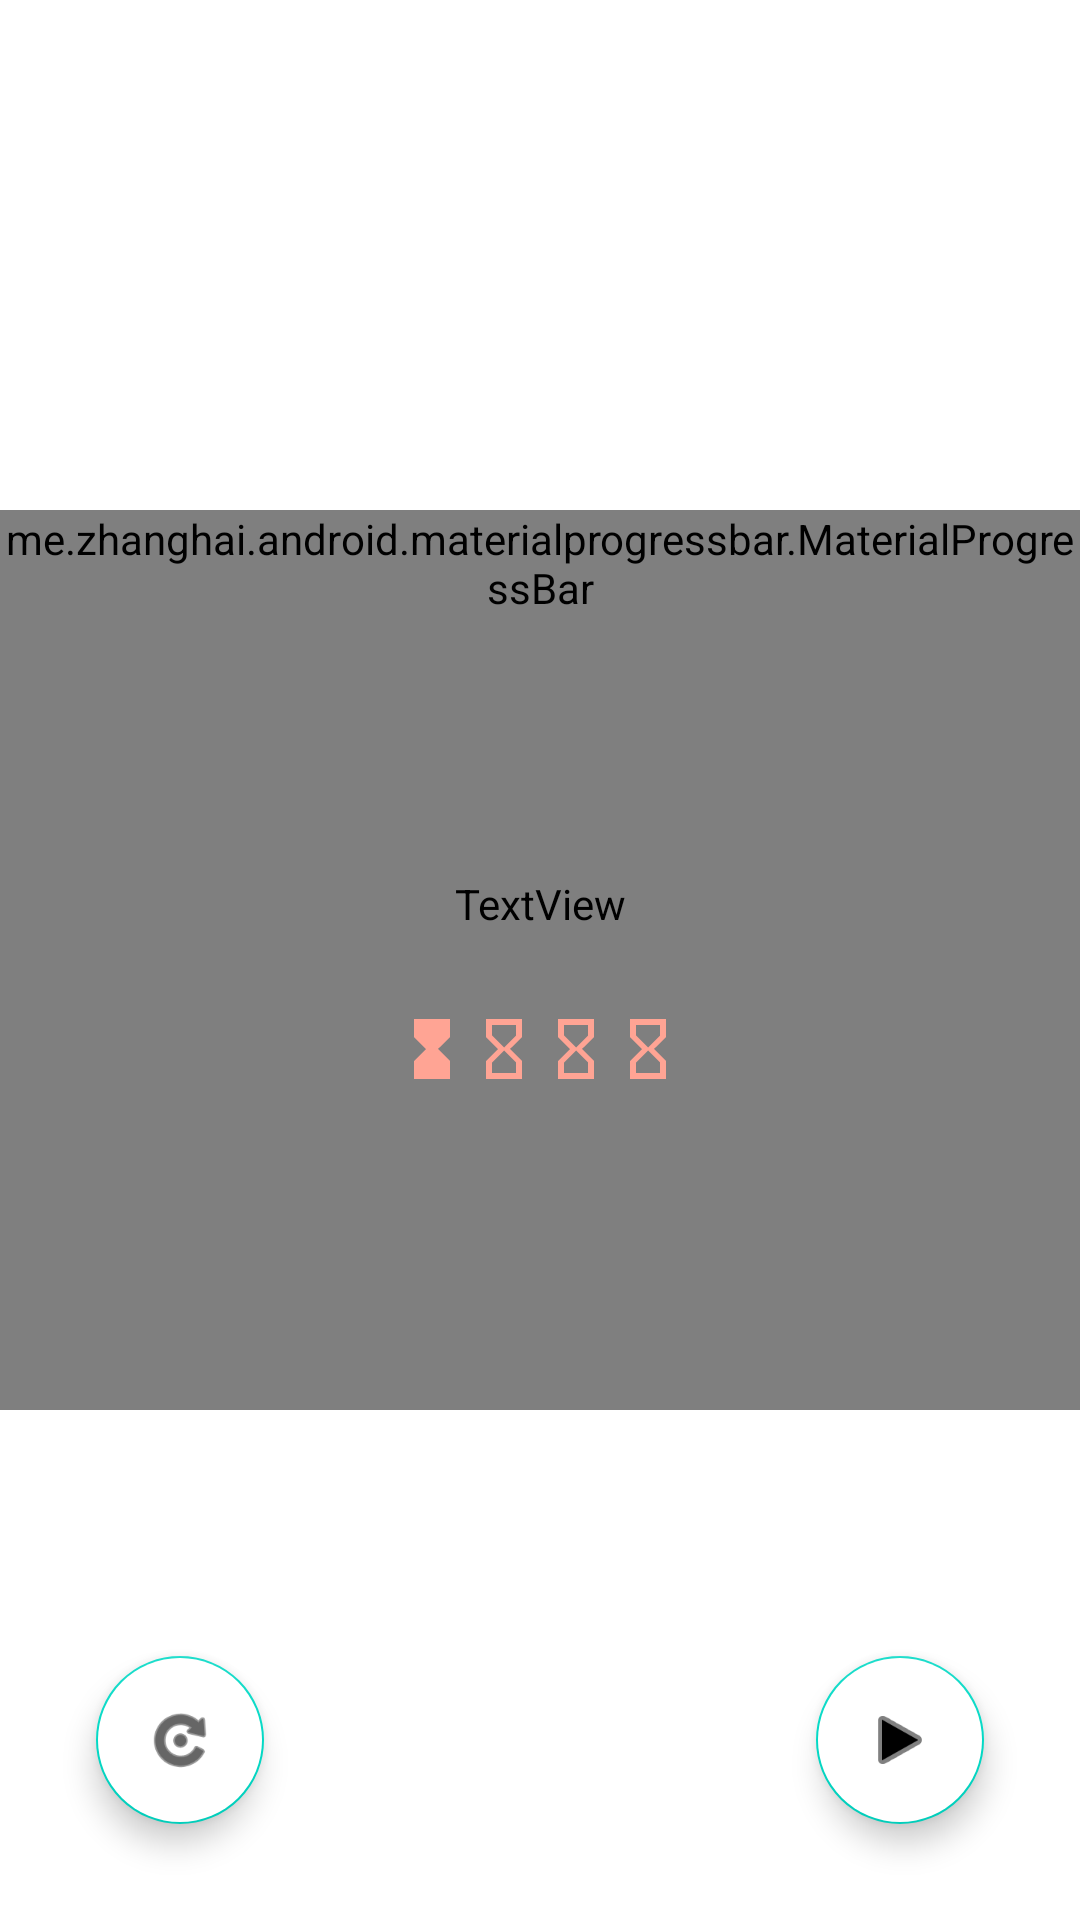

Named icons in this screenshot (1080px×1920px) and their centers, point (x, y):
first hourglass: point (432, 1049)
fourth hourglass: point (648, 1049)
Pause now, Continue: point (900, 1740)
Pause on Break, Restart: point (180, 1740)
second hourglass: point (504, 1049)
third hourglass: point (576, 1049)
